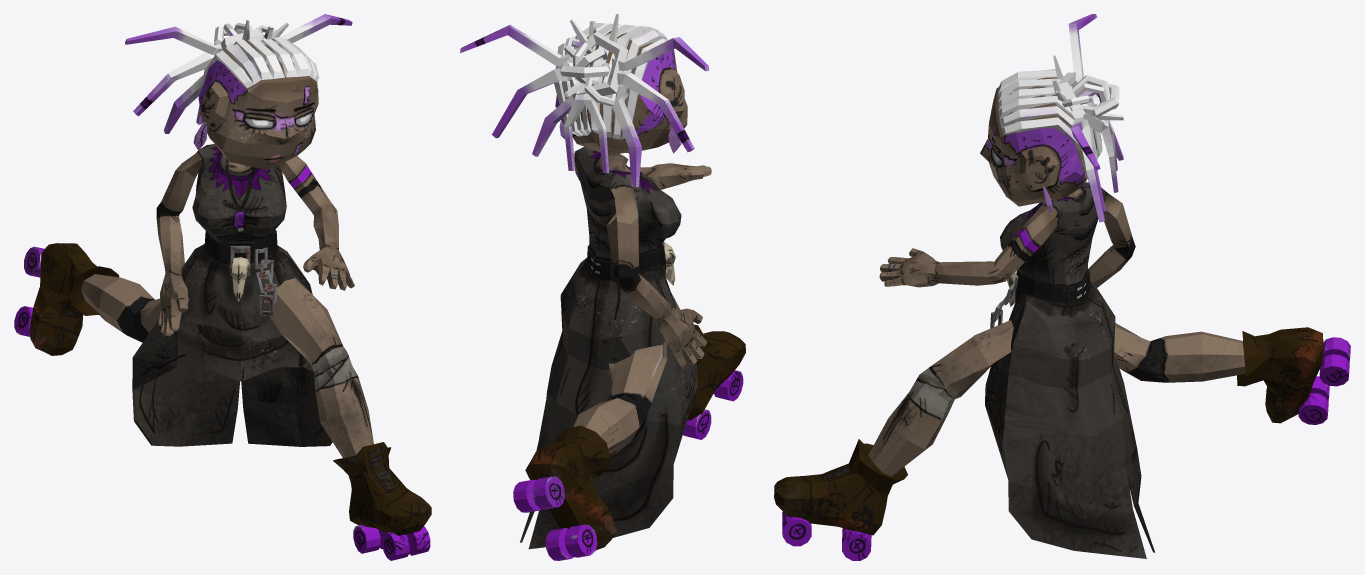
The model's file is bruja_000035.obj.
3 views of the same model, side by side, from view 1: azimuth 30°, elevation 25°; view 2: azimuth 150°, elevation 25°; view 3: azimuth 270°, elevation 25° (orthographic). The views are drawn at different scales.
Visible parts, largest first — view 1: Bruja_Plane.001; view 2: Bruja_Plane.001; view 3: Bruja_Plane.001.
Part boxes in pixels (x1,y1,x2,y2): Bruja_Plane.001: [14, 14, 431, 560]; Bruja_Plane.001: [460, 14, 745, 560]; Bruja_Plane.001: [774, 14, 1350, 560].
Bounding box in the file's own units: 7.49 × 14.48 × 15.73.
